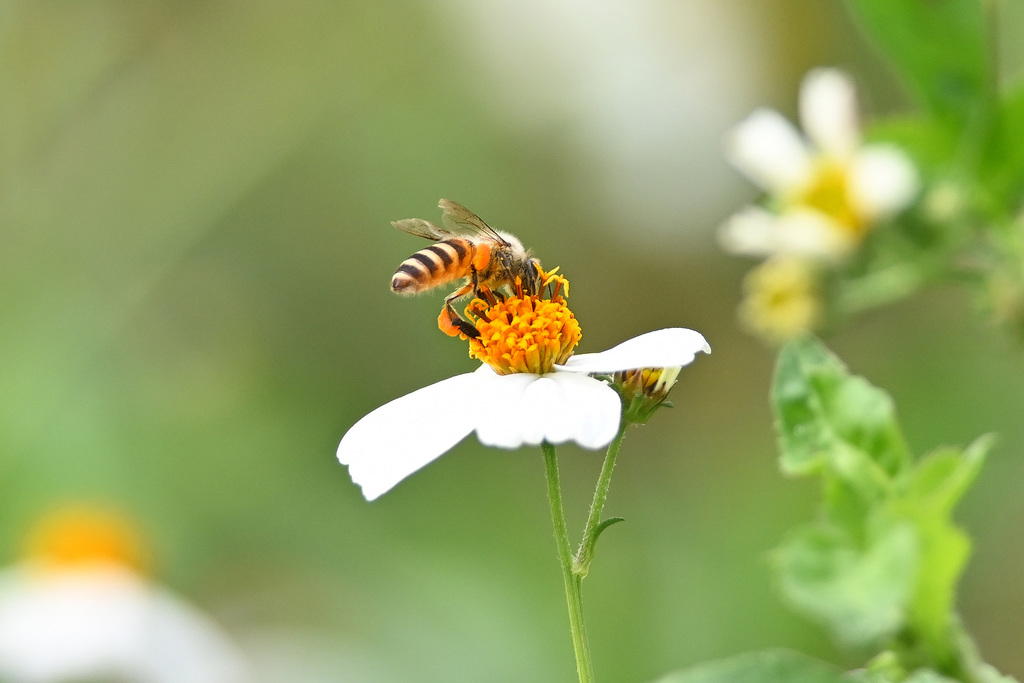not_bumblebee: (386, 198, 547, 303)
